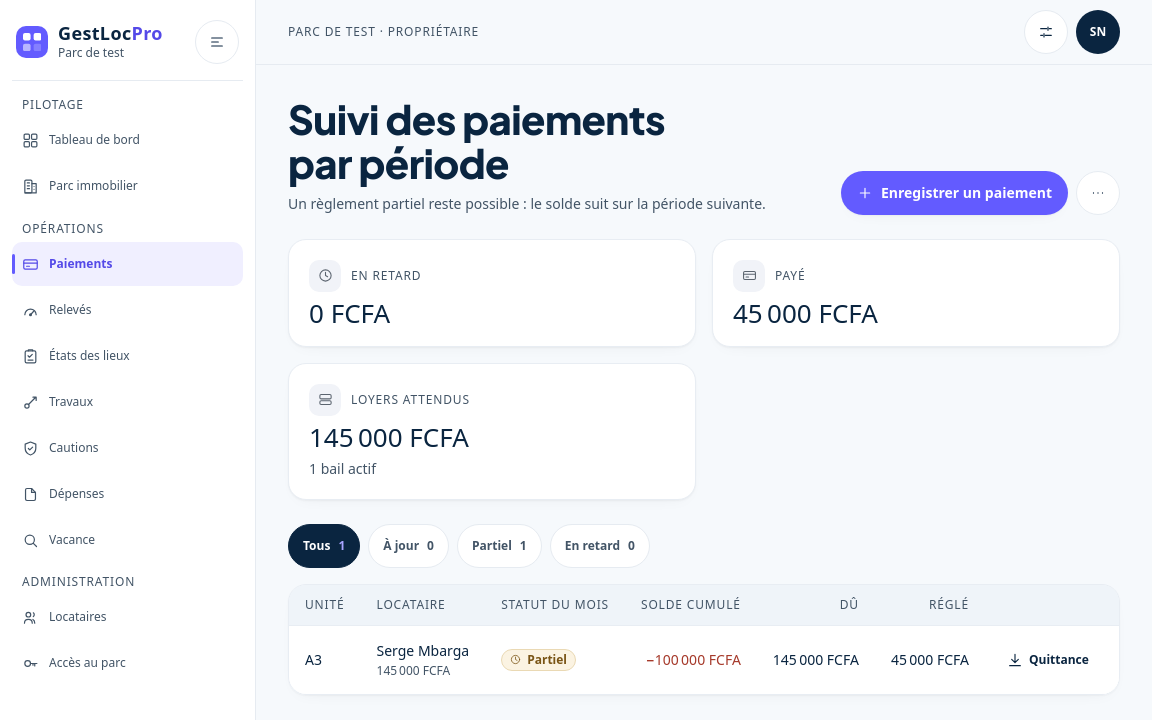
it: l’encaissement › garde la saisie ouverte et intacte quand le serveur refuse
The image size is (1152, 720).
Click the button "Enregistrer un paiement" at (954,193), box x1=841 y1=171 x2=1068 y2=215
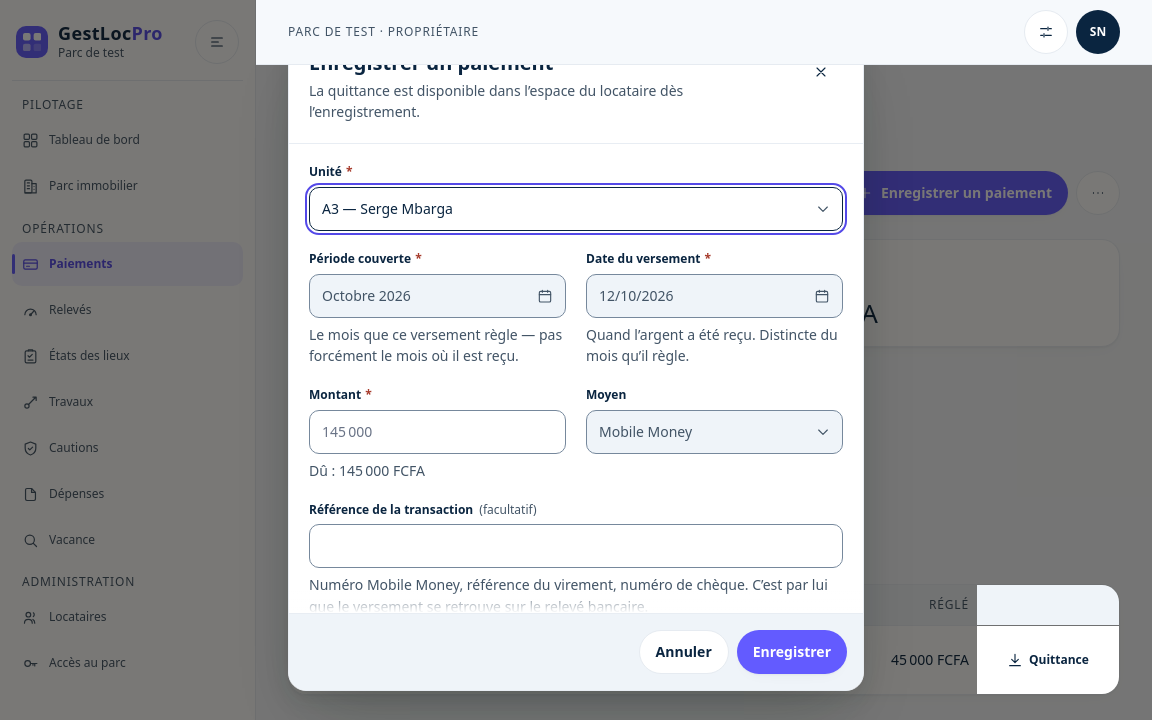
Type "100000" into the field labelled "Montant*" at (438,432), box x1=309 y1=410 x2=566 y2=454
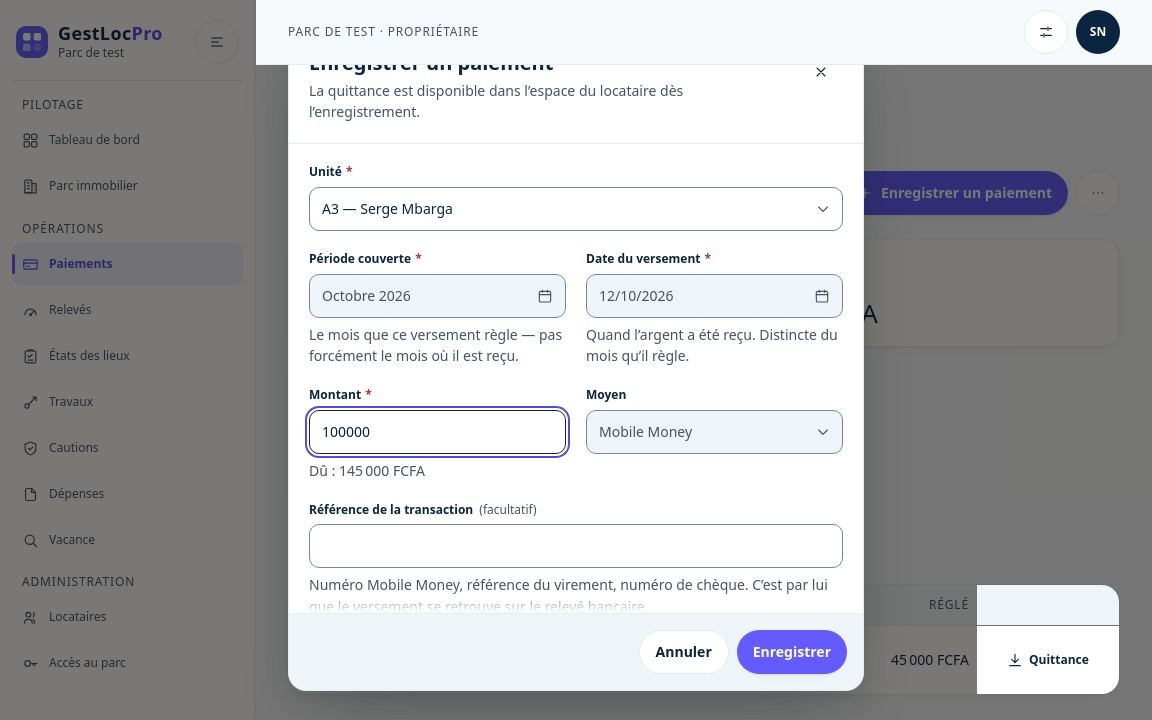
Click the button "Enregistrer" at (792,652), box x1=737 y1=630 x2=847 y2=674
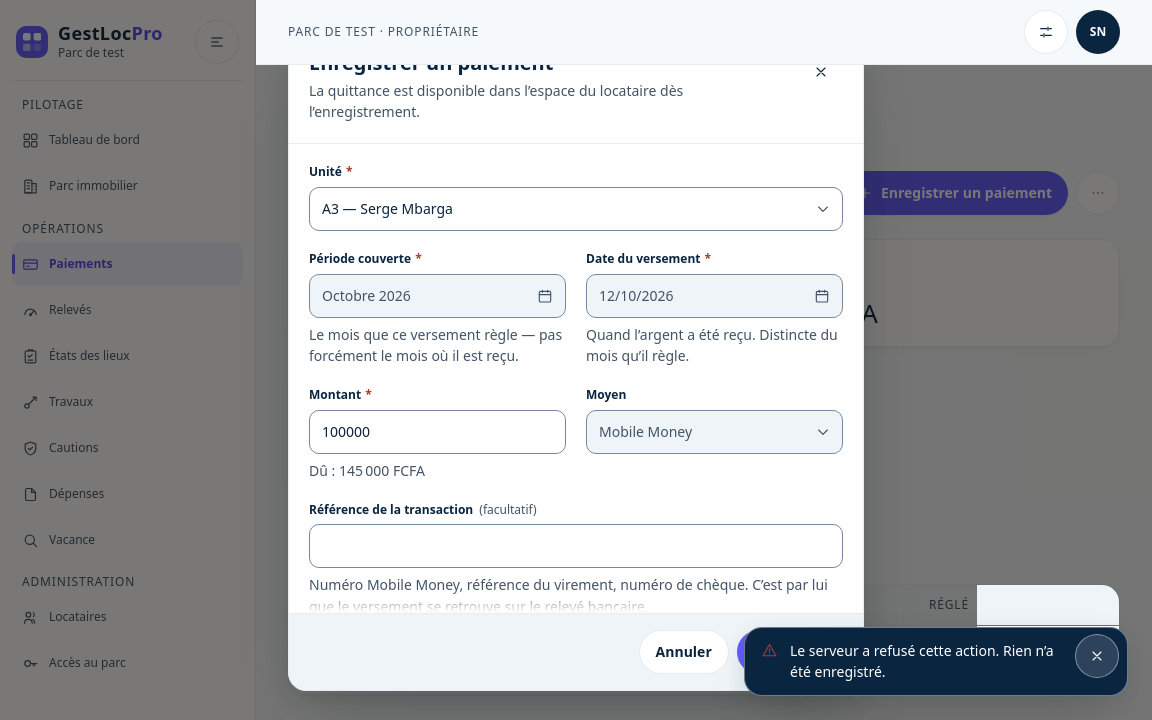
Now the dialog is shown, box x1=288 y1=29 x2=864 y2=691
Now the text "Le serveur a refusé cette action. Rien n’a été enregistré." is shown, box x1=790 y1=640 x2=1063 y2=683
